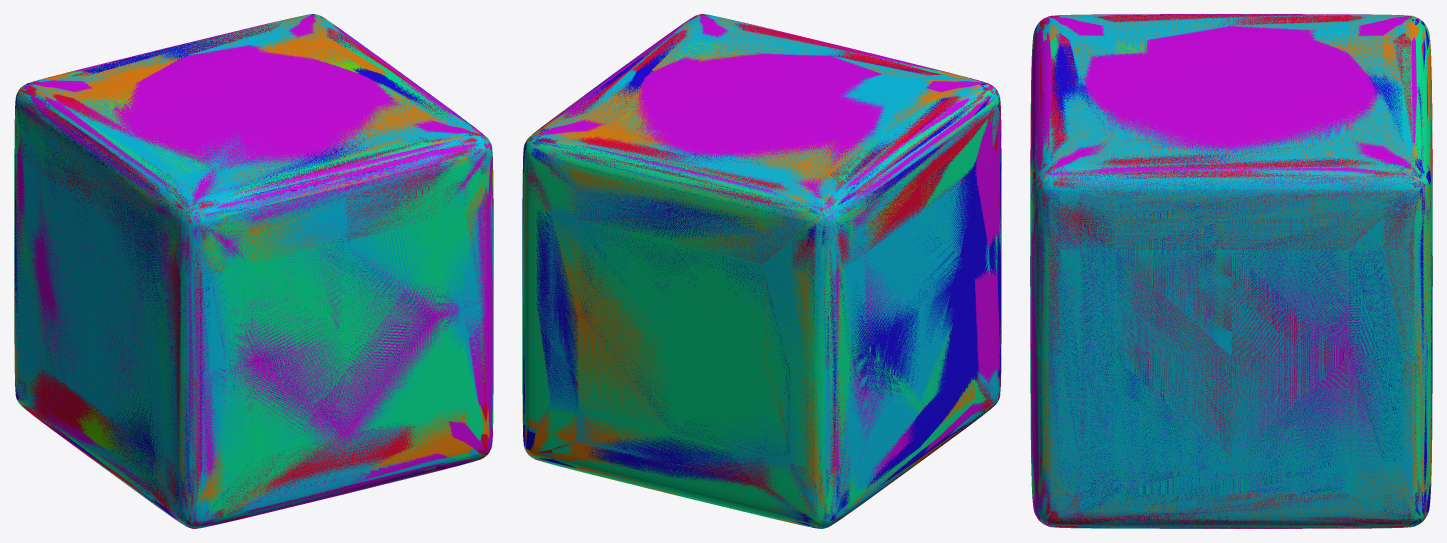
Rendered from blocks.fbx.
3 views of the same model, side by side, from view 1: azimuth 30°, elevation 25°; view 2: azimuth 150°, elevation 25°; view 3: azimuth 270°, elevation 25° (orthographic). The views are drawn at different scales.
Visible parts, largest first — view 1: i, l, z, j, t, o, s; view 2: l, i, z, o, t, j, s; view 3: i, z, l, j, t, o.
Boxes of the visible parts, box(x1,y1,x2,y2) form: i: box(14, 14, 493, 528); l: box(14, 14, 493, 527); z: box(15, 14, 493, 528); j: box(14, 14, 493, 528); t: box(14, 14, 492, 525); o: box(14, 14, 493, 527); s: box(50, 42, 413, 493); l: box(522, 24, 1001, 528); i: box(522, 14, 1001, 528); z: box(528, 14, 1001, 527); o: box(522, 25, 1001, 528); t: box(522, 16, 1001, 527); j: box(522, 14, 1000, 528); s: box(619, 40, 970, 497); i: box(1030, 14, 1432, 528); z: box(1030, 14, 1432, 528); l: box(1030, 14, 1432, 528); j: box(1030, 14, 1432, 528); t: box(1031, 14, 1432, 528); o: box(1035, 14, 1431, 528).
Bounding box in the file's own units: 0.9991 × 0.9991 × 0.9991.
